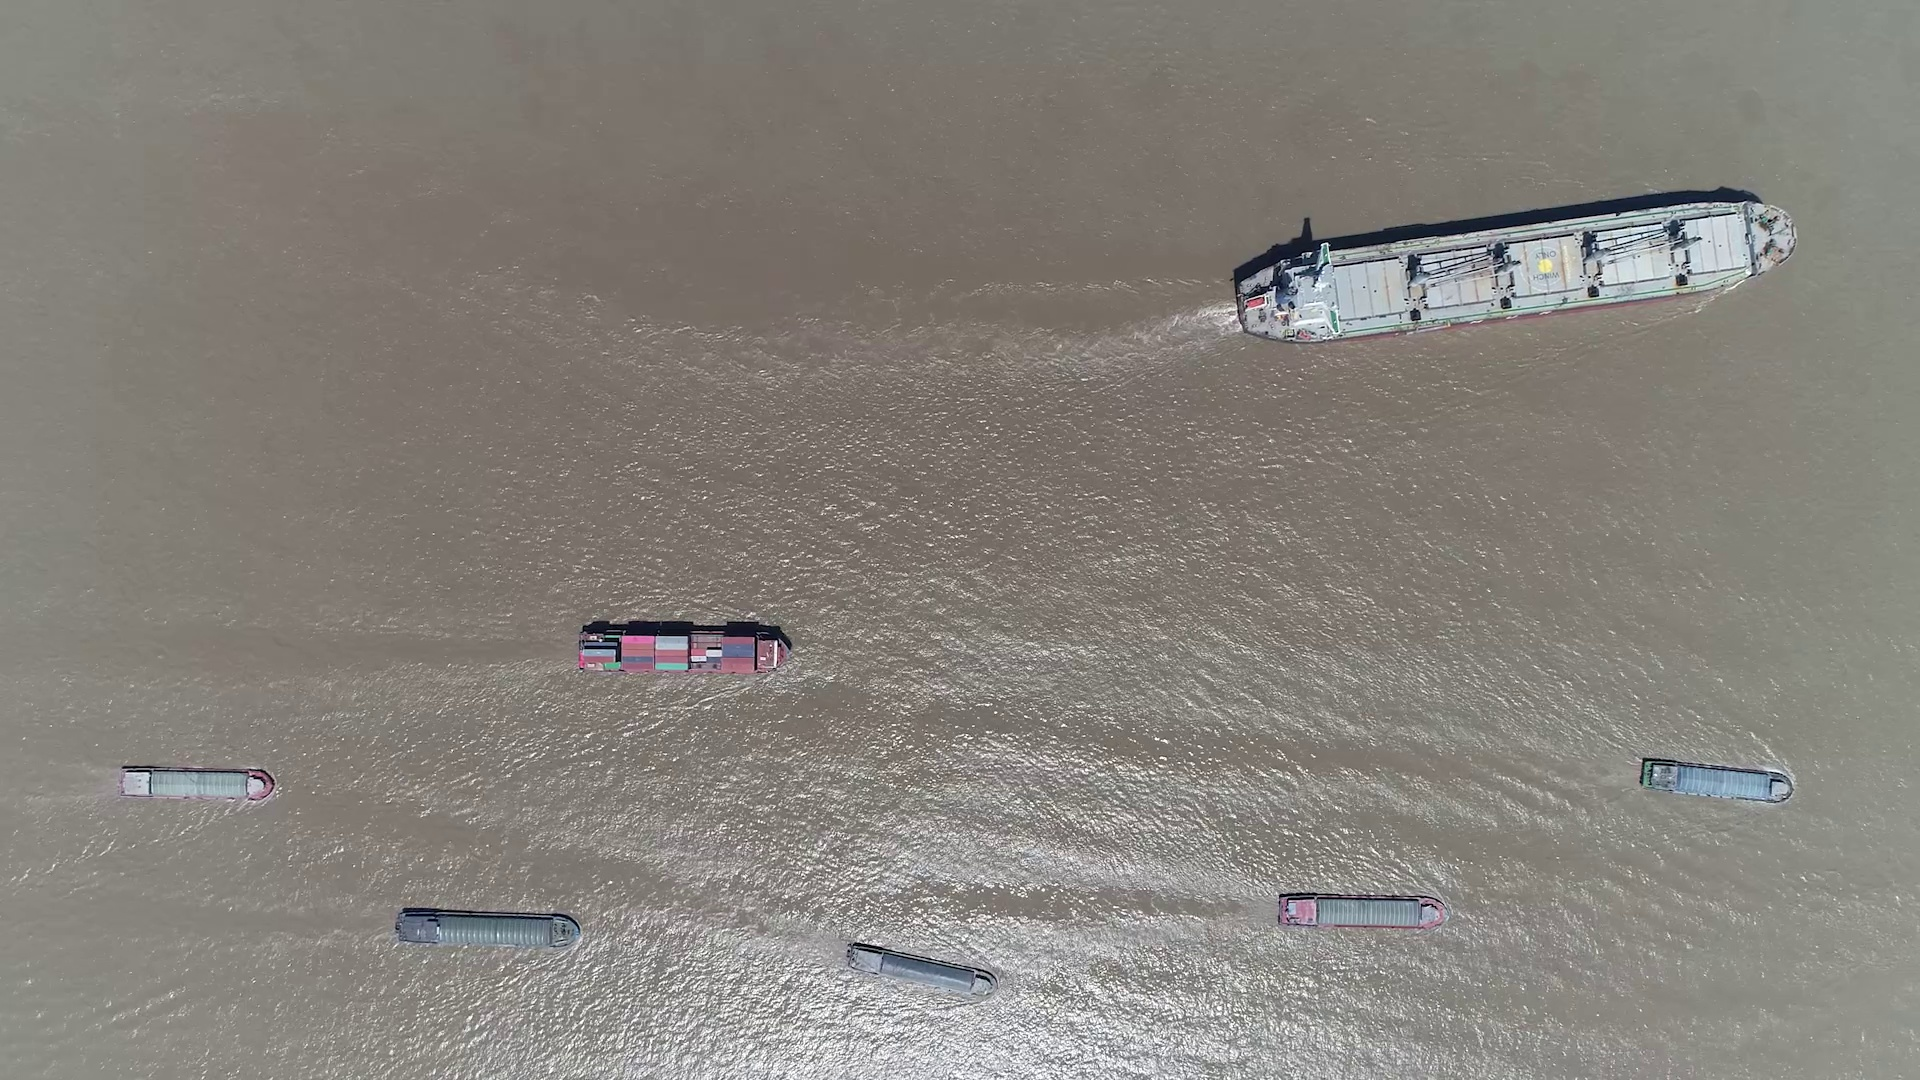ship: (1226, 200, 1796, 343), (576, 625, 789, 676), (845, 942, 994, 996), (396, 907, 580, 949), (1640, 757, 1793, 803), (1276, 893, 1447, 930), (117, 765, 273, 802)
